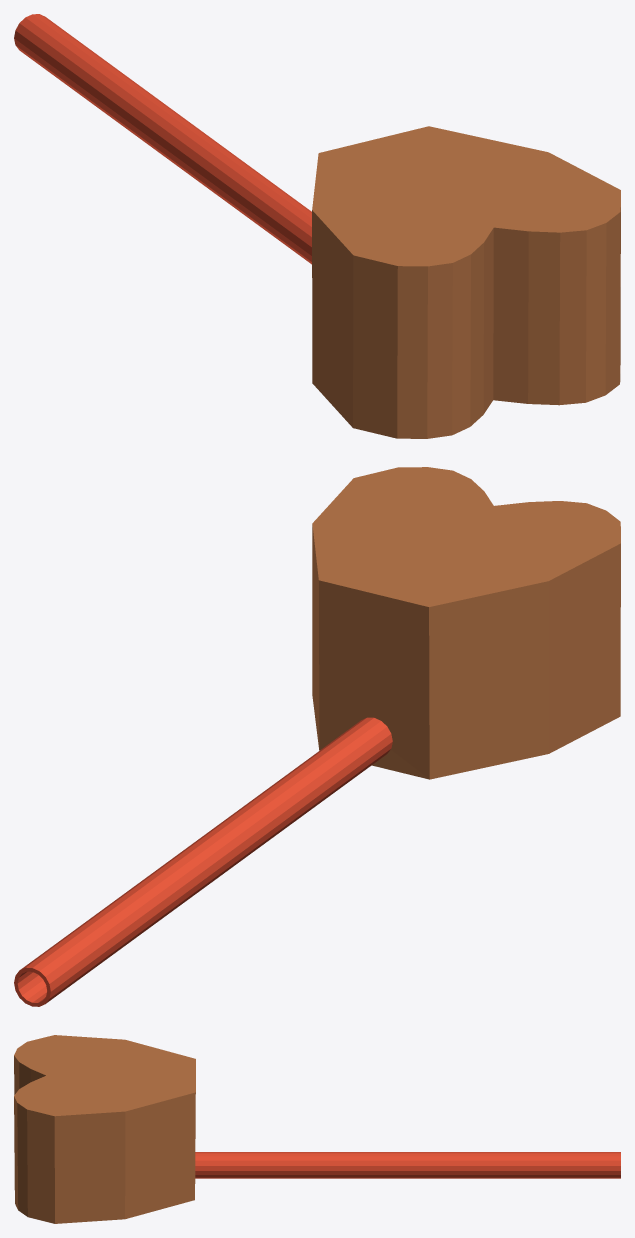
Rendered from balls_2.fbx.
3 views of the same model, one above another, from view 1: azimuth 30°, elevation 25°; view 2: azimuth 150°, elevation 25°; view 3: azimuth 270°, elevation 25° (orthographic). The views are drawn at different scales.
Parts seen in each view (by area): view 1: Plane, Cylinder; view 2: Plane, Cylinder; view 3: Plane, Cylinder.
Boxes of the visible parts, x1,y1,x2,y2 form: Plane: [312, 126, 620, 438]; Cylinder: [14, 14, 311, 264]; Plane: [312, 467, 620, 779]; Cylinder: [14, 717, 392, 1006]; Plane: [14, 1035, 195, 1223]; Cylinder: [195, 1152, 620, 1178].
Size of the model in its own units: 11843 by 7415 by 37389.
